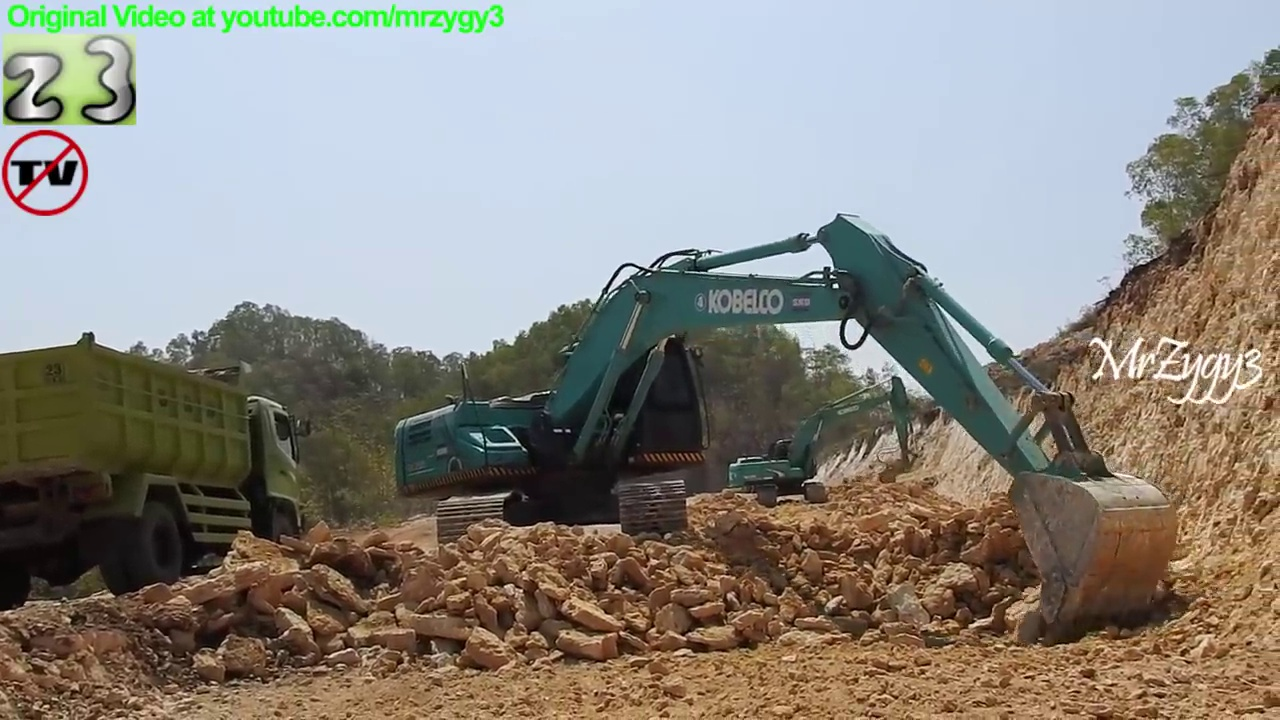excavator: (389, 209, 1182, 651)
excavator breaker: (724, 371, 926, 510)
truck: (1, 328, 319, 621)
